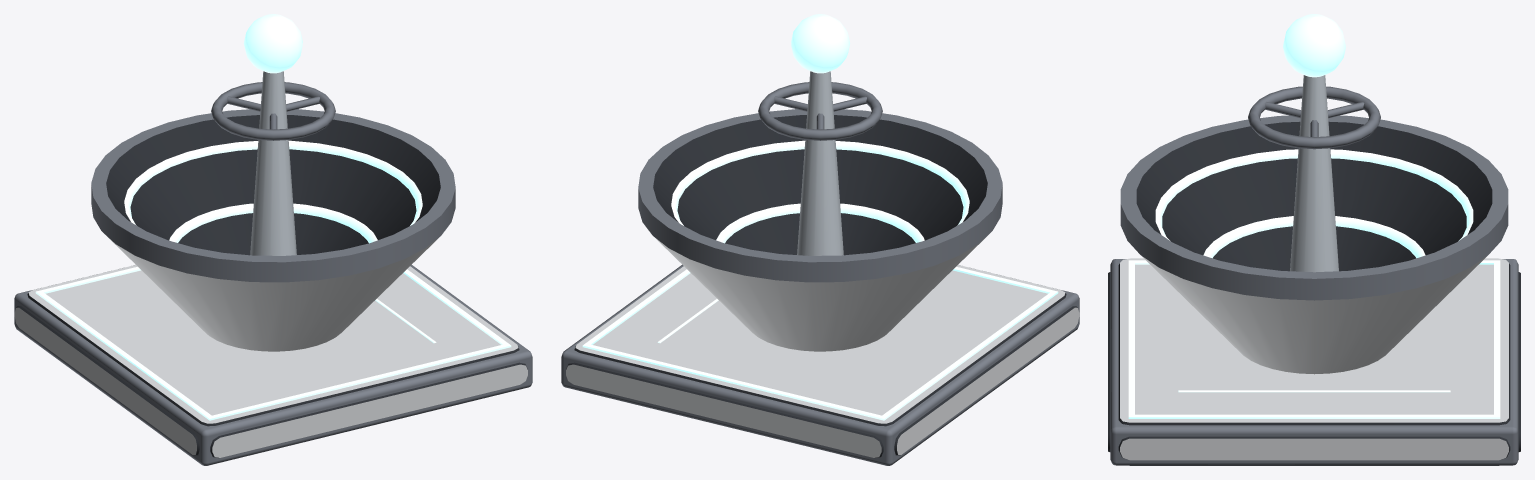
The model's file is R4X_ScannerPulse.fbx.
3 renders of one model, left to right at view 1: azimuth 30°, elevation 25°; view 2: azimuth 150°, elevation 25°; view 3: azimuth 270°, elevation 25°, orthographic. The views are drawn at different scales.
Visible parts, largest first — view 1: R4X_ScannerPulse_Body; view 2: R4X_ScannerPulse_Body; view 3: R4X_ScannerPulse_Body.
Part boxes in pixels (x1,y1,x2,y2): R4X_ScannerPulse_Body: (14,14,532,465); R4X_ScannerPulse_Body: (561,14,1079,465); R4X_ScannerPulse_Body: (1108,14,1520,465).
Bounding box in the file's own units: 0.52 × 0.51 × 0.52.
